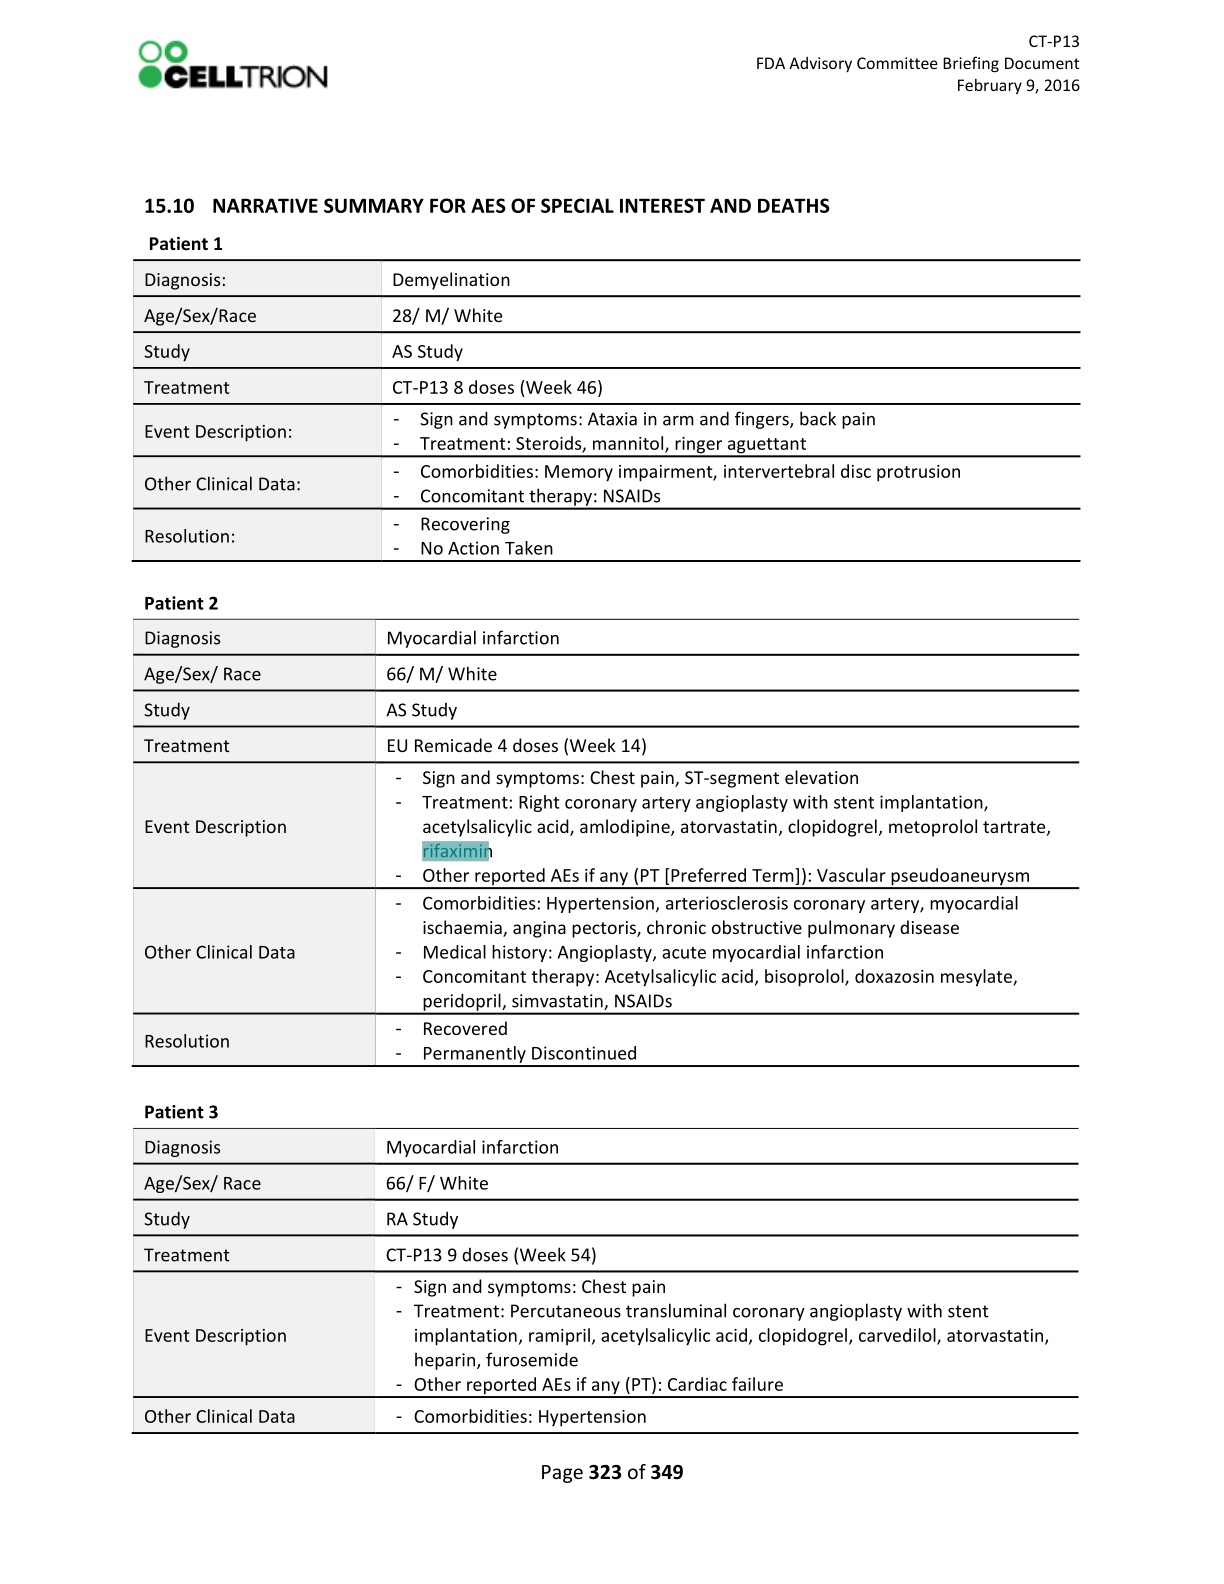partial_lined: (132, 617, 1083, 1068), (131, 1126, 1081, 1436), (130, 256, 1083, 564)
